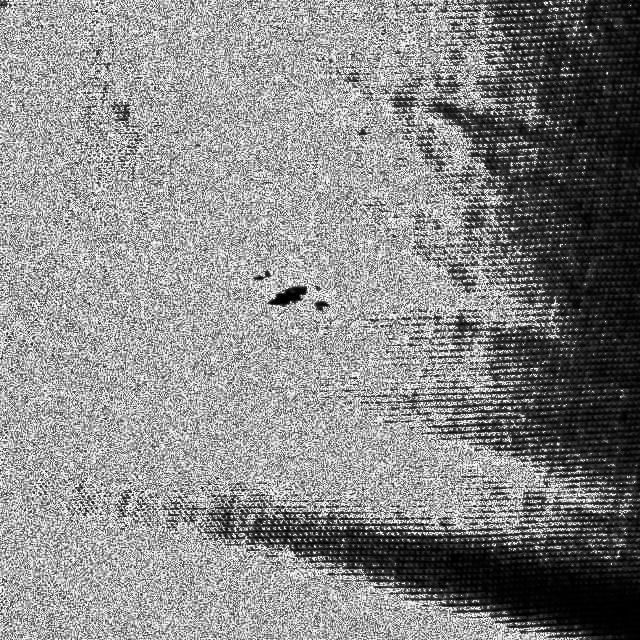Hole: (252, 270, 326, 321), (258, 276, 326, 323)
